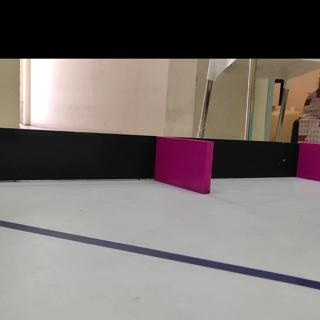xparking: (159, 137, 210, 186), (300, 142, 319, 178)
